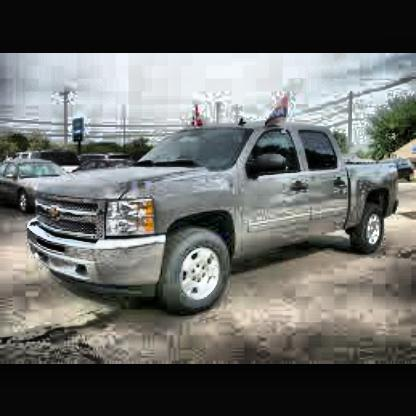Chevrolet Silverado 1500 Hybrid Crew Cab 2012: (21, 118, 404, 321)
